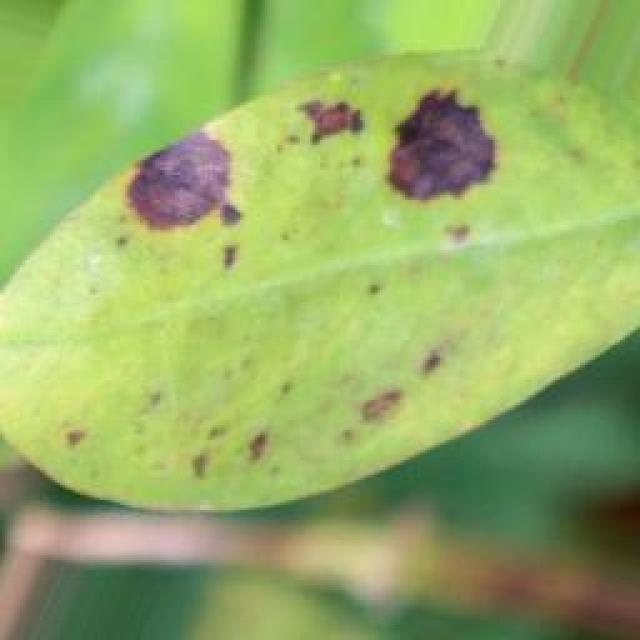Yellowish: (89, 43, 531, 512)
